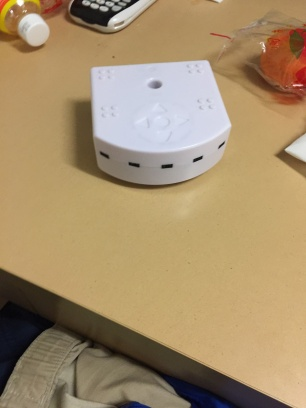thymio: (83, 53, 236, 192)
